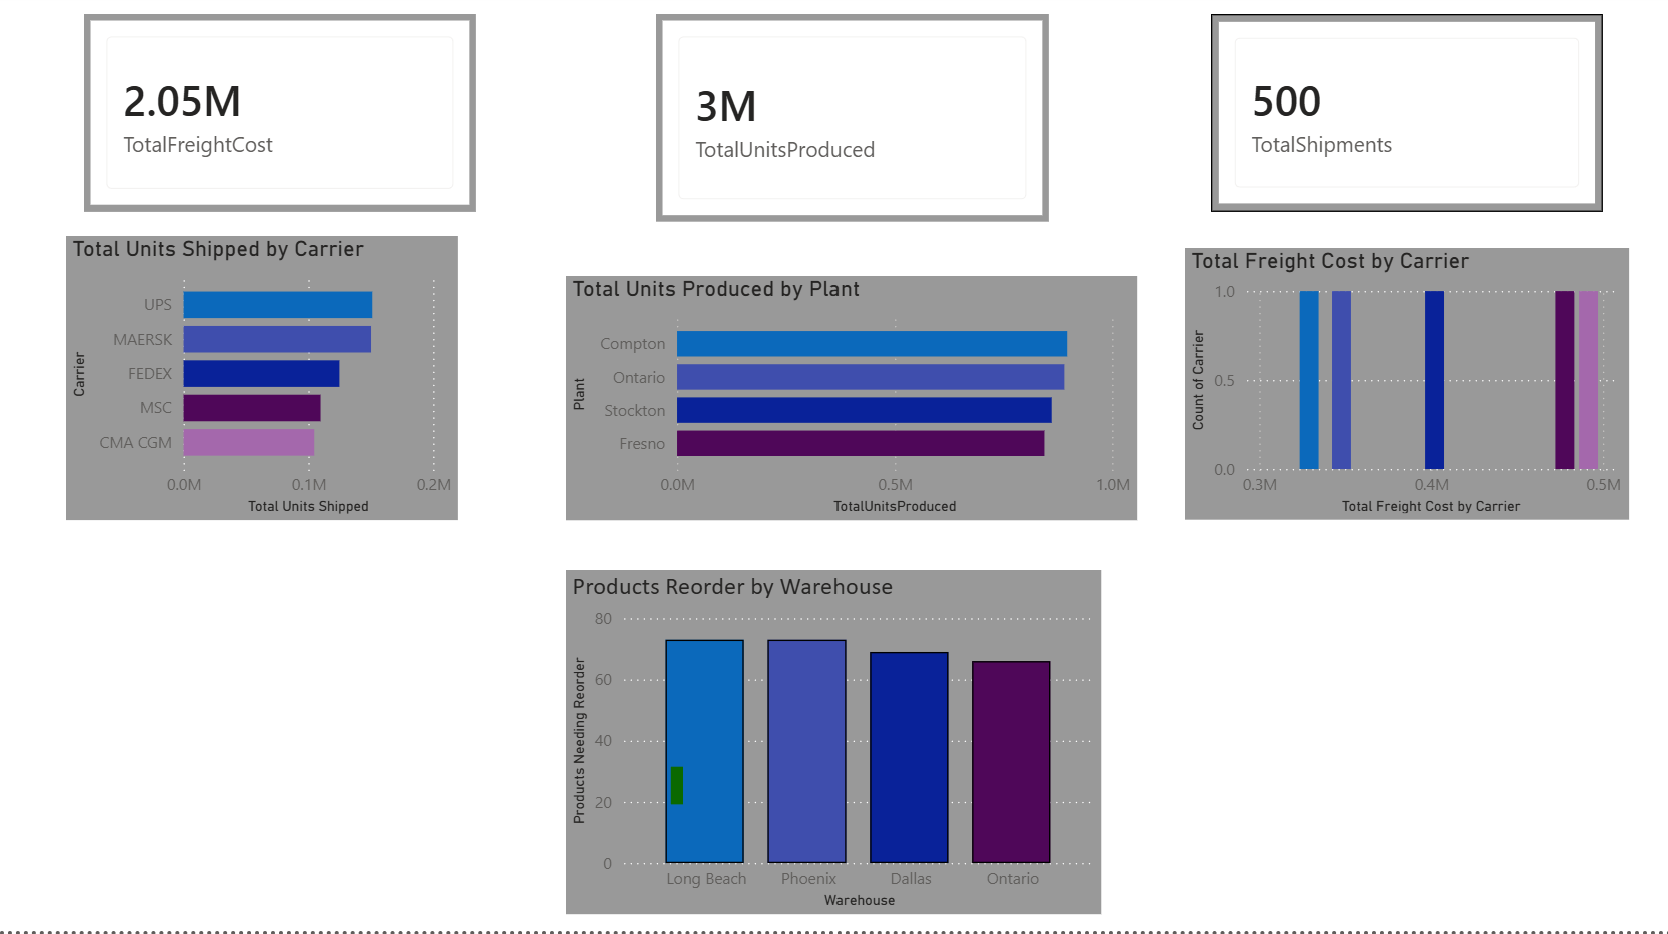

The dashboard page shown, as its layout file describes it:
{"tool":"powerbi","page":{"name":"Page 1","canvas":[1280,720],"ordinal":0},"visuals":[{"type":"clusteredColumnChart","title":" Total Freight Cost by Carrier","fields":{"Category":["carrier_summary.TotalFreightCost"],"Y":["CountNonNull(carrier_summary.Carrier)"]},"box":[909.5,197.5,339.9,208.2],"z":0},{"type":"clusteredBarChart","fields":{"Category":["carrier_summary.Carrier"],"Y":["Sum(carrier_summary.TotalUnits)"]},"box":[53.6,188.3,300.1,217.4],"z":1},{"type":"clusteredColumnChart","title":"Products Reorder by Warehouse","fields":{"Category":["inventory_reorder_summary.Warehouse"],"Y":["Sum(inventory_reorder_summary.ProductsNeedingReorder)"]},"box":[436.4,444,408.8,263.3],"z":2},{"type":"clusteredBarChart","title":" Total Units Produced by Plant","fields":{"Category":["production_summary.Plant"],"Y":["Sum(production_summary.TotalUnitsProduced)"]},"box":[436.4,218.9,436.4,186.8],"z":3},{"type":"cardVisual","fields":{"Data":["Sum(carrier_summary.TotalFreightCost)"]},"box":[67.4,18.4,300.1,151.6],"z":4},{"type":"cardVisual","fields":{"Data":["Sum(production_summary.TotalUnitsProduced)"]},"box":[505.3,18.4,300.1,159.2],"z":5},{"type":"cardVisual","fields":{"Data":["Sum(carrier_summary.TotalShipments)"]},"box":[929.4,18.4,300.1,151.6],"z":6}]}

Visuals, with their boxes in screenshot pixels (x1, y1, x2, y2), scaled from the page's 1280x720 canvas onto the 1668x934 screenshot:
" Total Freight Cost by Carrier" clusteredColumnChart: (1185,256,1628,526)
clusteredBarChart - carrier_summary.Carrier x Sum(carrier_summary.TotalUnits): (70,244,461,526)
"Products Reorder by Warehouse" clusteredColumnChart: (569,576,1101,918)
" Total Units Produced by Plant" clusteredBarChart: (569,284,1137,526)
cardVisual - Sum(carrier_summary.TotalFreightCost): (88,24,479,221)
cardVisual - Sum(production_summary.TotalUnitsProduced): (658,24,1050,230)
cardVisual - Sum(carrier_summary.TotalShipments): (1211,24,1602,221)
